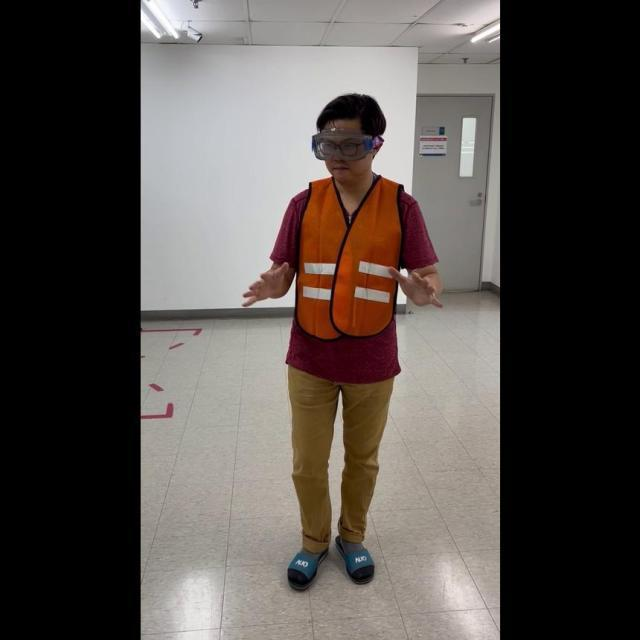bare_hand: (239, 254, 292, 307), (386, 260, 444, 308)
